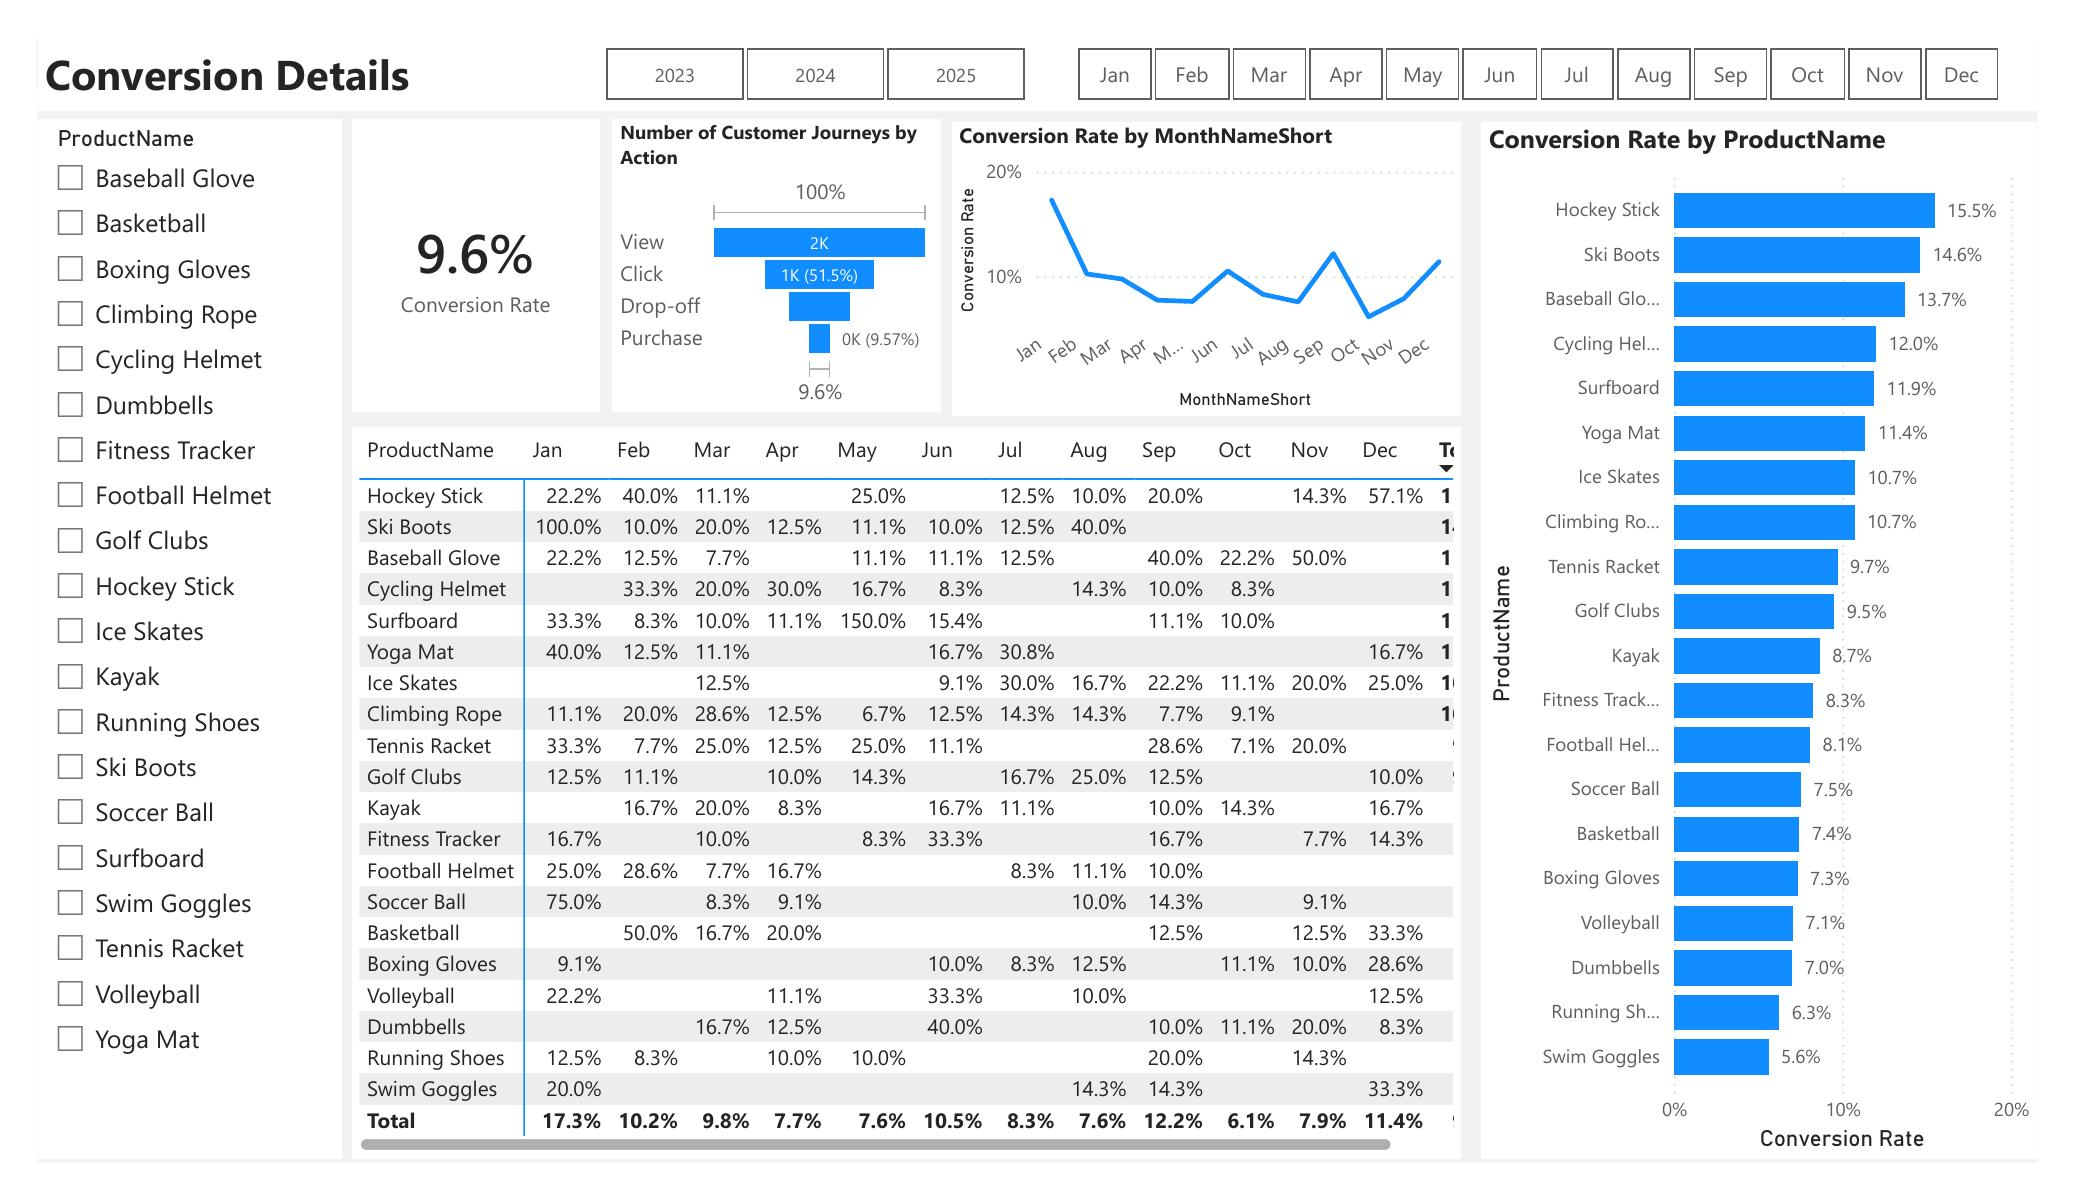

The dashboard page shown, as its layout file describes it:
{"tool":"powerbi","page":{"name":"Conversion Details","canvas":[1280,720],"ordinal":1},"visuals":[{"type":"cardVisual","fields":{"Data":["Measure Table.Conversion Rate"]},"box":[201.3,52.1,158.7,188.3],"z":0},{"type":"slicer","fields":{"Values":["products.ProductName"]},"box":[0,52.1,195.4,665.6],"z":1000},{"type":"textbox","box":[0,0,1280.2,47.4],"z":2000},{"type":"slicer","fields":{"Values":["Calendar.Year"]},"box":[337.5,0,318.6,47.4],"z":3000},{"type":"slicer","fields":{"Values":["Calendar.MonthNameShort"]},"box":[639.5,0,639.5,47.4],"z":4000},{"type":"lineChart","title":"Conversion Rate by Month","fields":{"Category":["Calendar.MonthNameShort"],"Y":["Measure Table.Conversion Rate"]},"box":[585,54.5,325.7,187.1],"z":5000},{"type":"clusteredBarChart","fields":{"Category":["products.ProductName"],"Y":["Measure Table.Conversion Rate"]},"box":[923.8,54.5,356.5,663.2],"z":6000},{"type":"pivotTable","fields":{"Columns":["Calendar.MonthNameShort"],"Rows":["products.ProductName"],"Values":["Measure Table.Conversion Rate"]},"box":[201.3,248.7,709.4,469],"z":7000},{"type":"funnel","fields":{"Category":["fact_customer_journey.Action"],"Y":["Measure Table.Number of Customer Journeys"]},"box":[368.3,52.1,209.6,188.3],"z":8000}]}

Visuals, with their boxes on the page's 1280x720 design canvas (x1, y1, x2, y2). These are canvas units, not pixel positions in the 2075x1200 screenshot, which may show the page scaled, cropped or inside an application window:
cardVisual - Measure Table.Conversion Rate: [left=201, top=52, right=360, bottom=240]
slicer - products.ProductName: [left=0, top=52, right=195, bottom=718]
textbox: [left=0, top=0, right=1280, bottom=47]
slicer - Calendar.Year: [left=338, top=0, right=656, bottom=47]
slicer - Calendar.MonthNameShort: [left=640, top=0, right=1279, bottom=47]
"Conversion Rate by Month" lineChart: [left=585, top=54, right=911, bottom=242]
clusteredBarChart - products.ProductName x Measure Table.Conversion Rate: [left=924, top=54, right=1280, bottom=718]
pivotTable - Calendar.MonthNameShort x products.ProductName: [left=201, top=249, right=911, bottom=718]
funnel - fact_customer_journey.Action x Measure Table.Number of Customer Journeys: [left=368, top=52, right=578, bottom=240]
